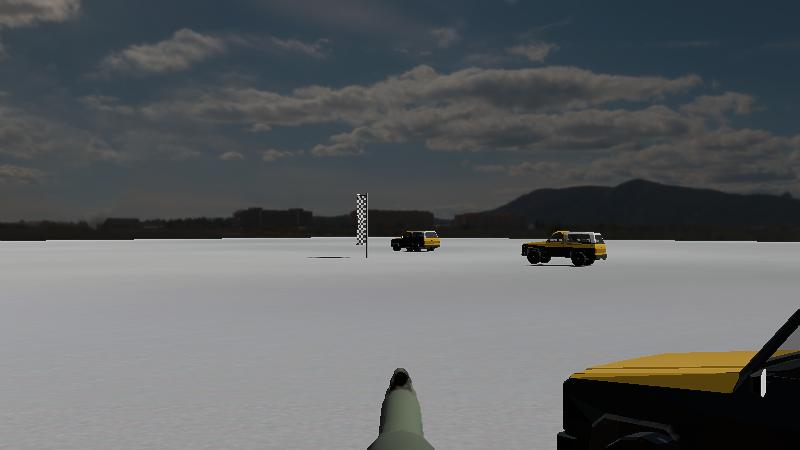car: (546, 258, 800, 450), (517, 226, 611, 270), (388, 228, 442, 254)
